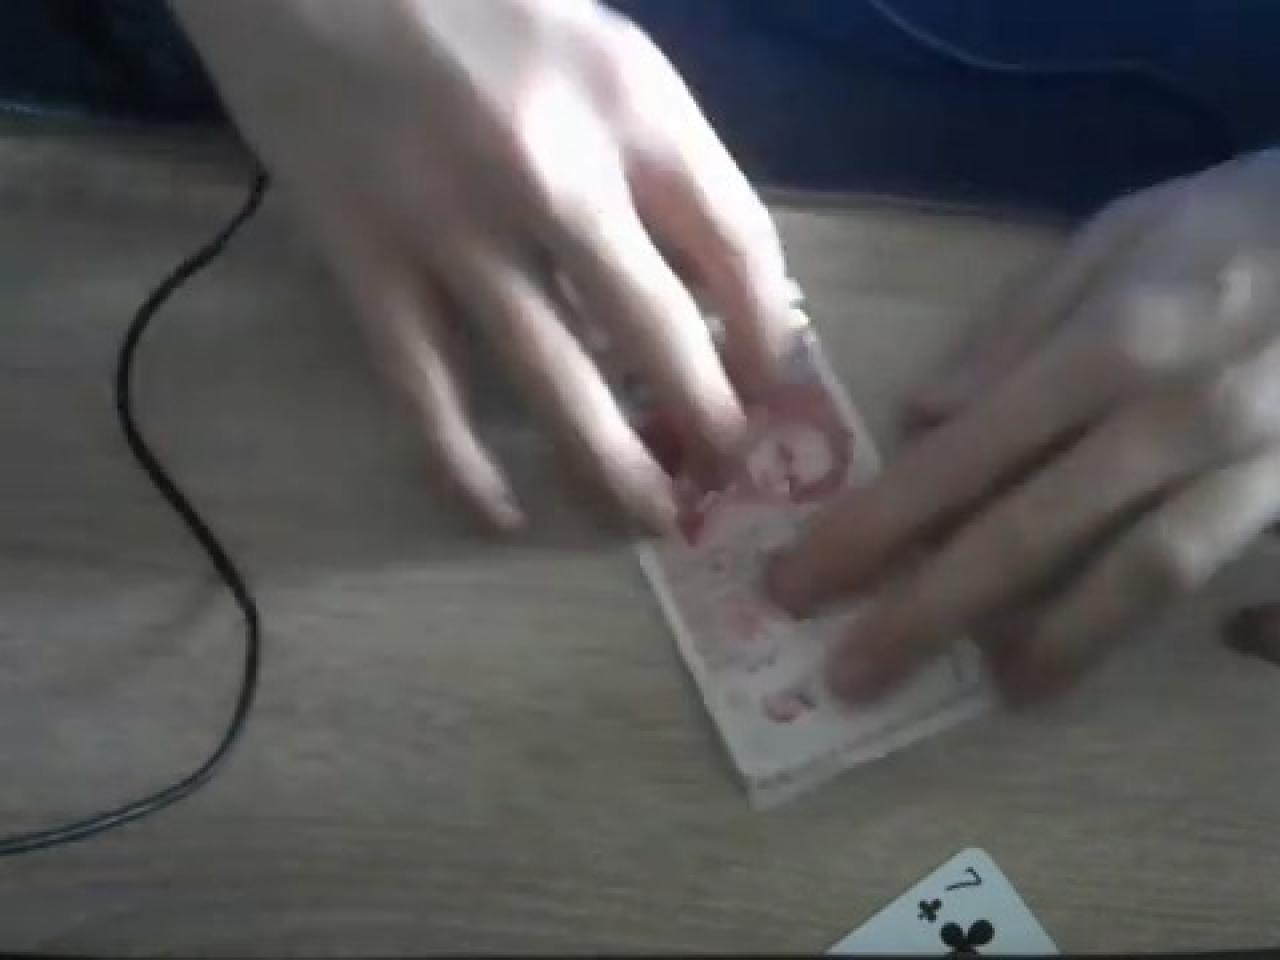5leva: (688, 302, 883, 645), (765, 667, 824, 728)
